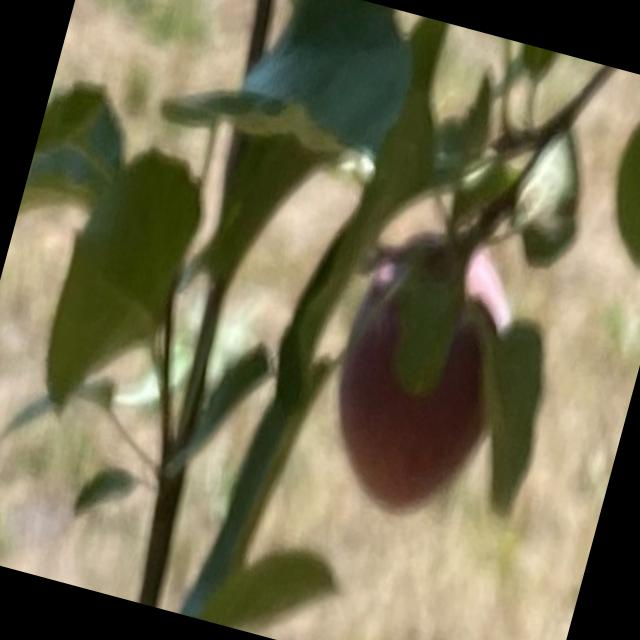Apples: (310, 222, 534, 525)
